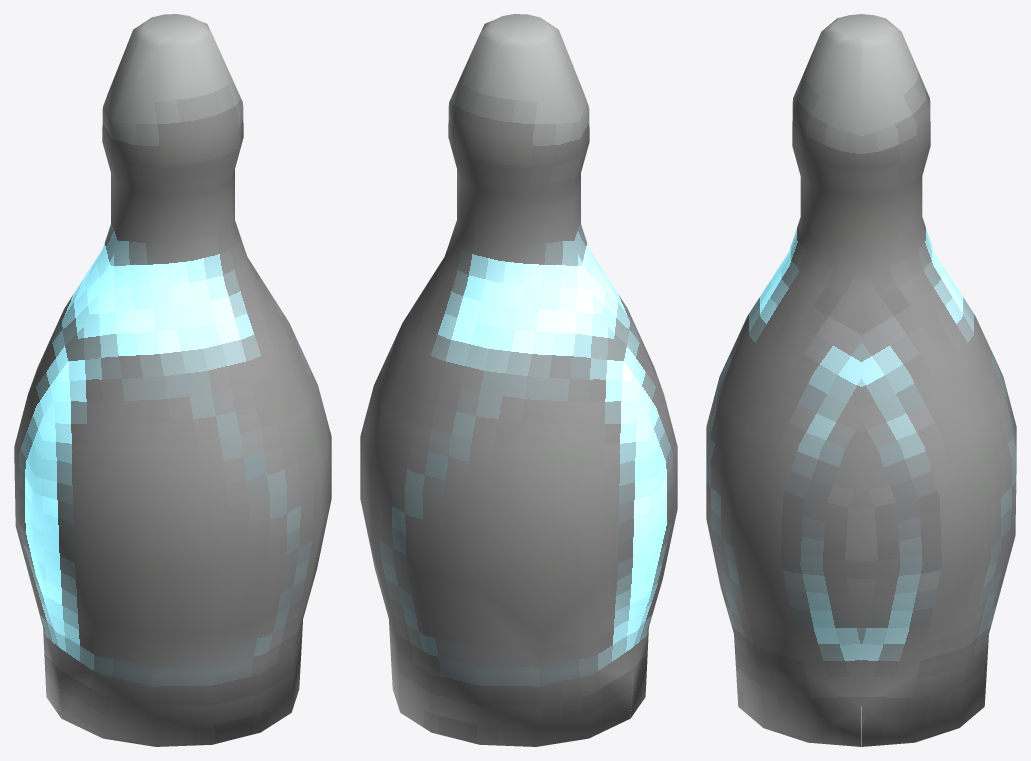
Rendered from bar_bottle_1_b.glb.
3 renders of one model, left to right at view 1: azimuth 30°, elevation 25°; view 2: azimuth 150°, elevation 25°; view 3: azimuth 270°, elevation 25°, orthographic.
Parts seen in each view (by area): view 1: bar_bottle_1; view 2: bar_bottle_1; view 3: bar_bottle_1.
Part boxes in pixels (left/top/right/bottom): bar_bottle_1: left=14, top=14, right=331, bottom=746; bar_bottle_1: left=360, top=14, right=677, bottom=746; bar_bottle_1: left=706, top=14, right=1016, bottom=746.
Bounding box in the file's own units: 0.1155 × 0.268 × 0.1126.
Materials: 1 (1 with a texture image).
